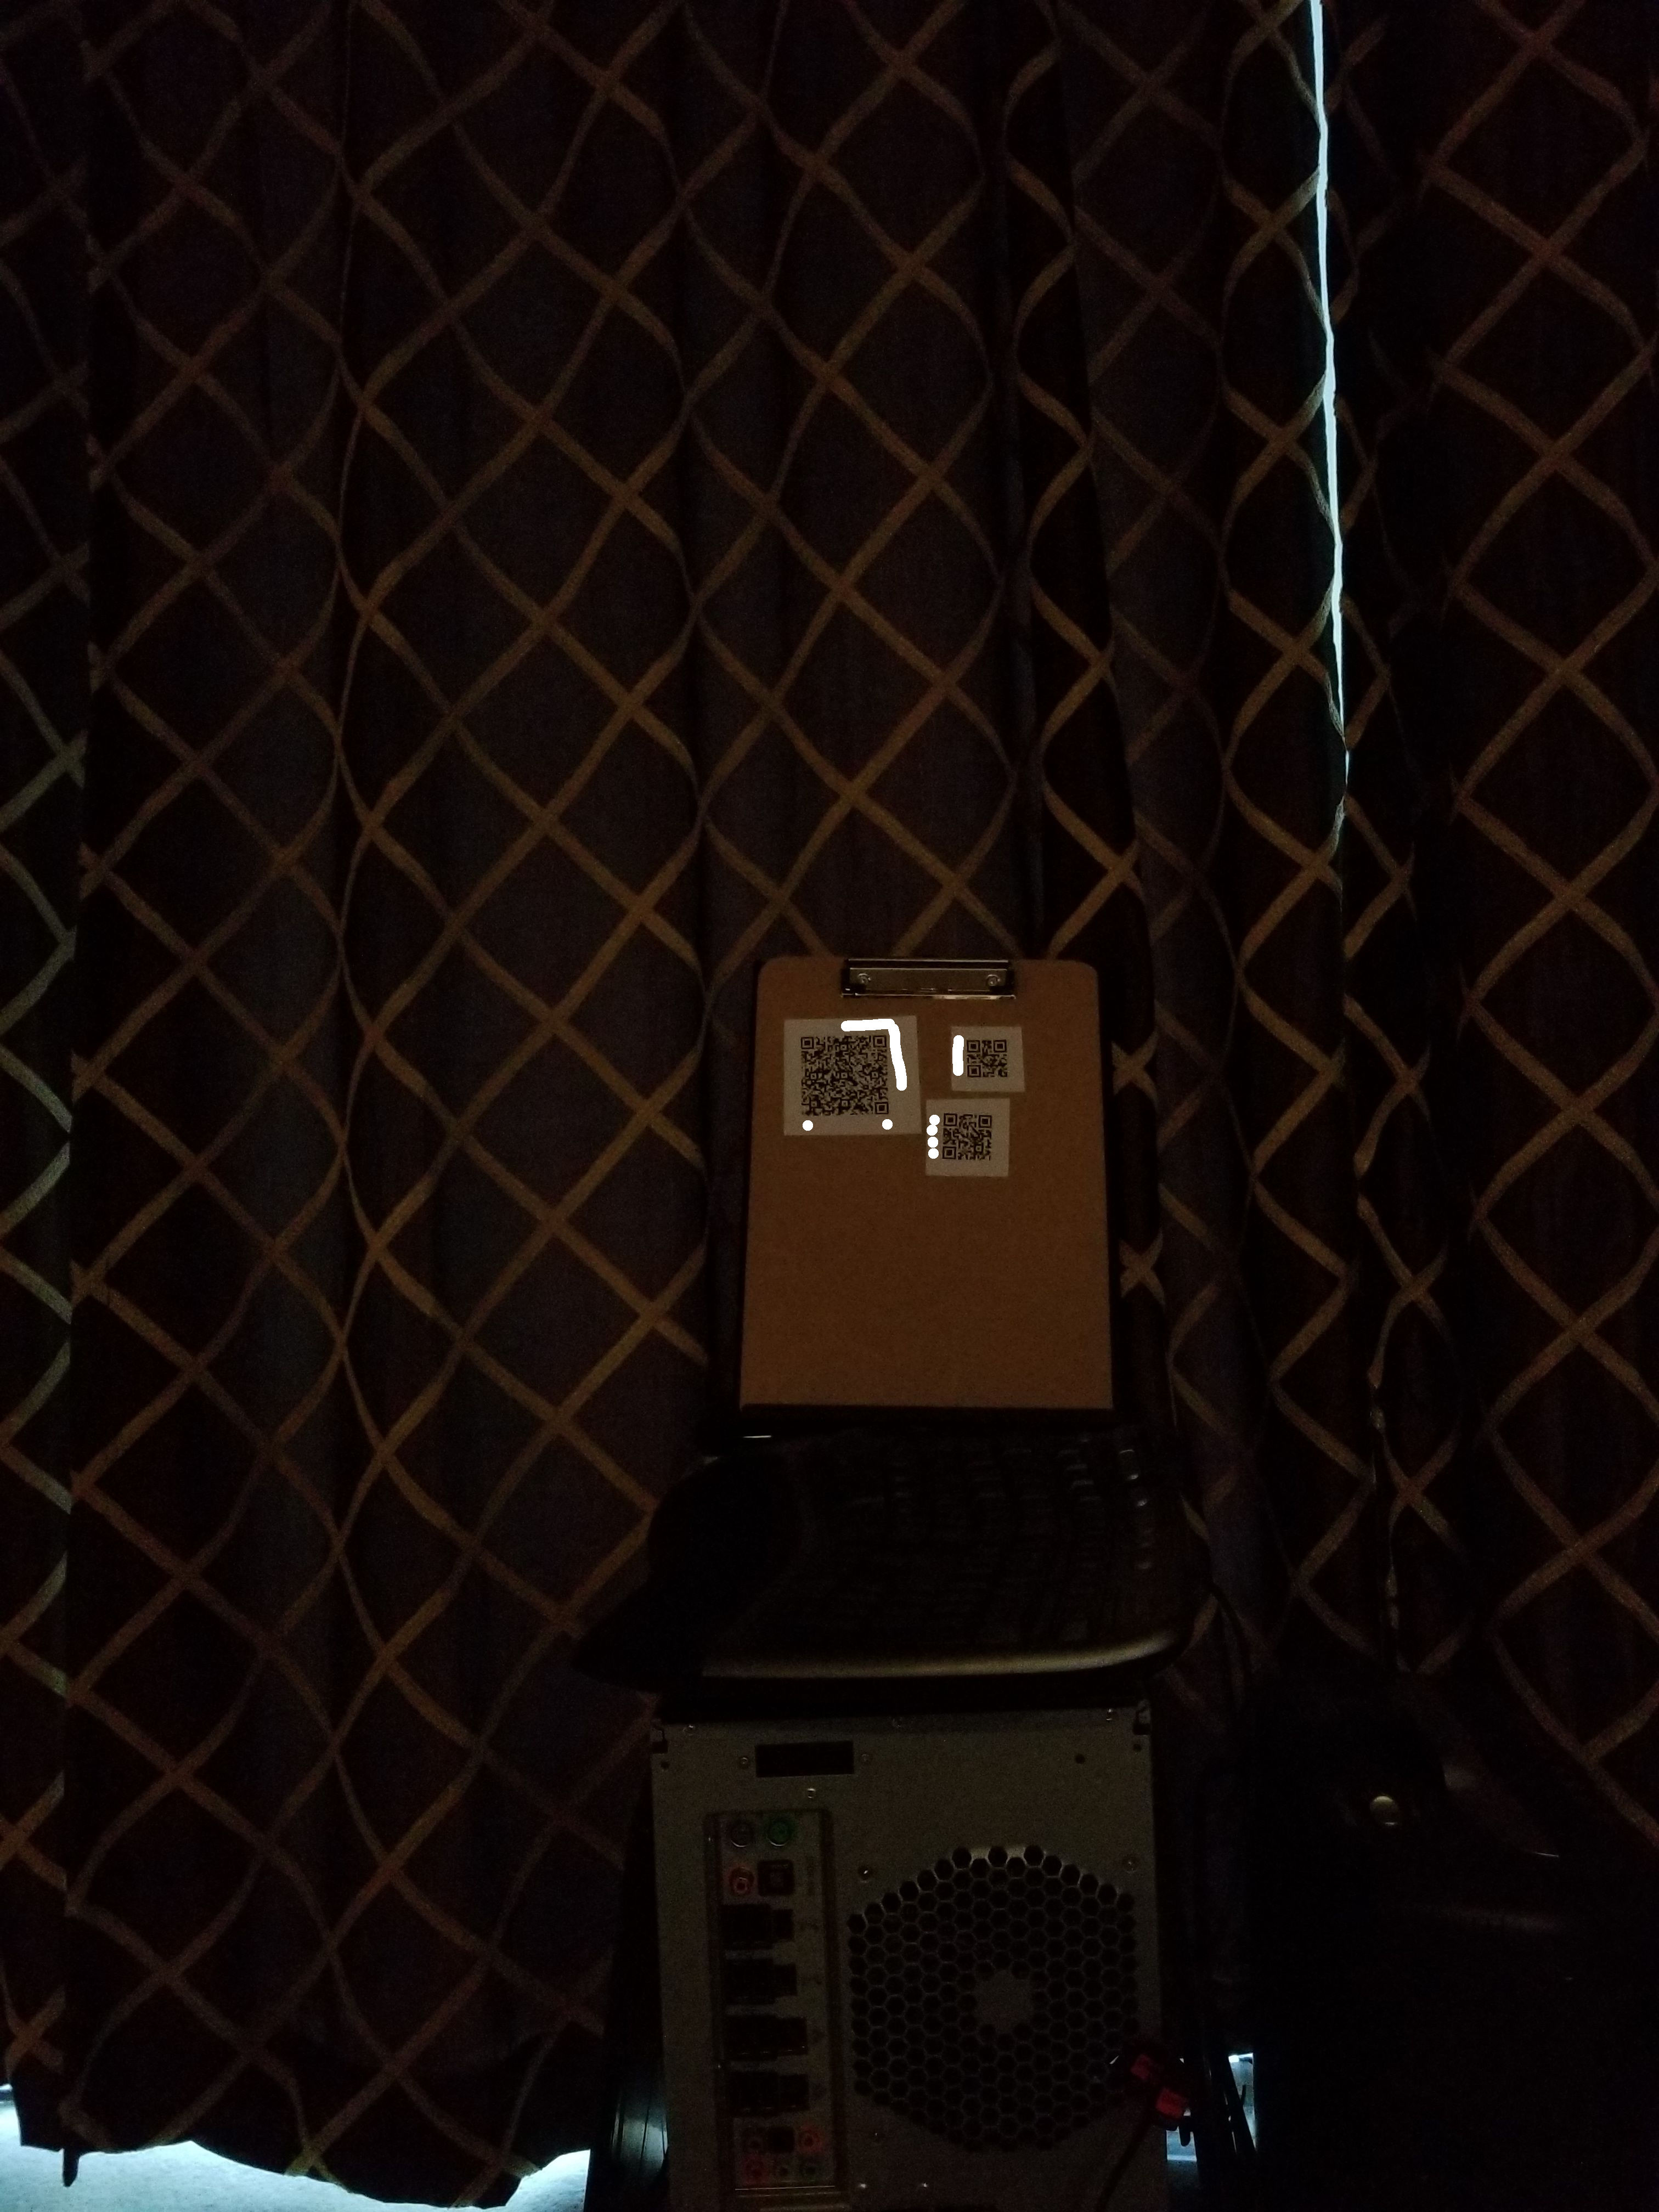QR_CODE: (784, 1019, 901, 1136), (931, 1106, 1016, 1172), (953, 1021, 1021, 1090)
